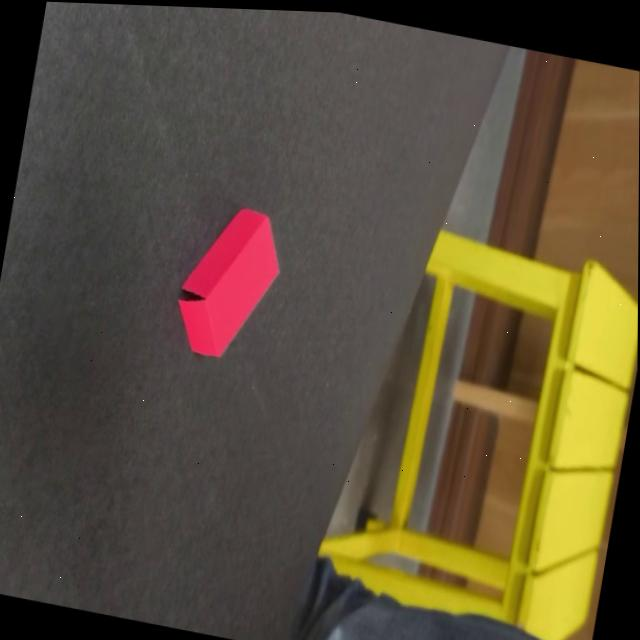red block: (170, 196, 290, 369)
